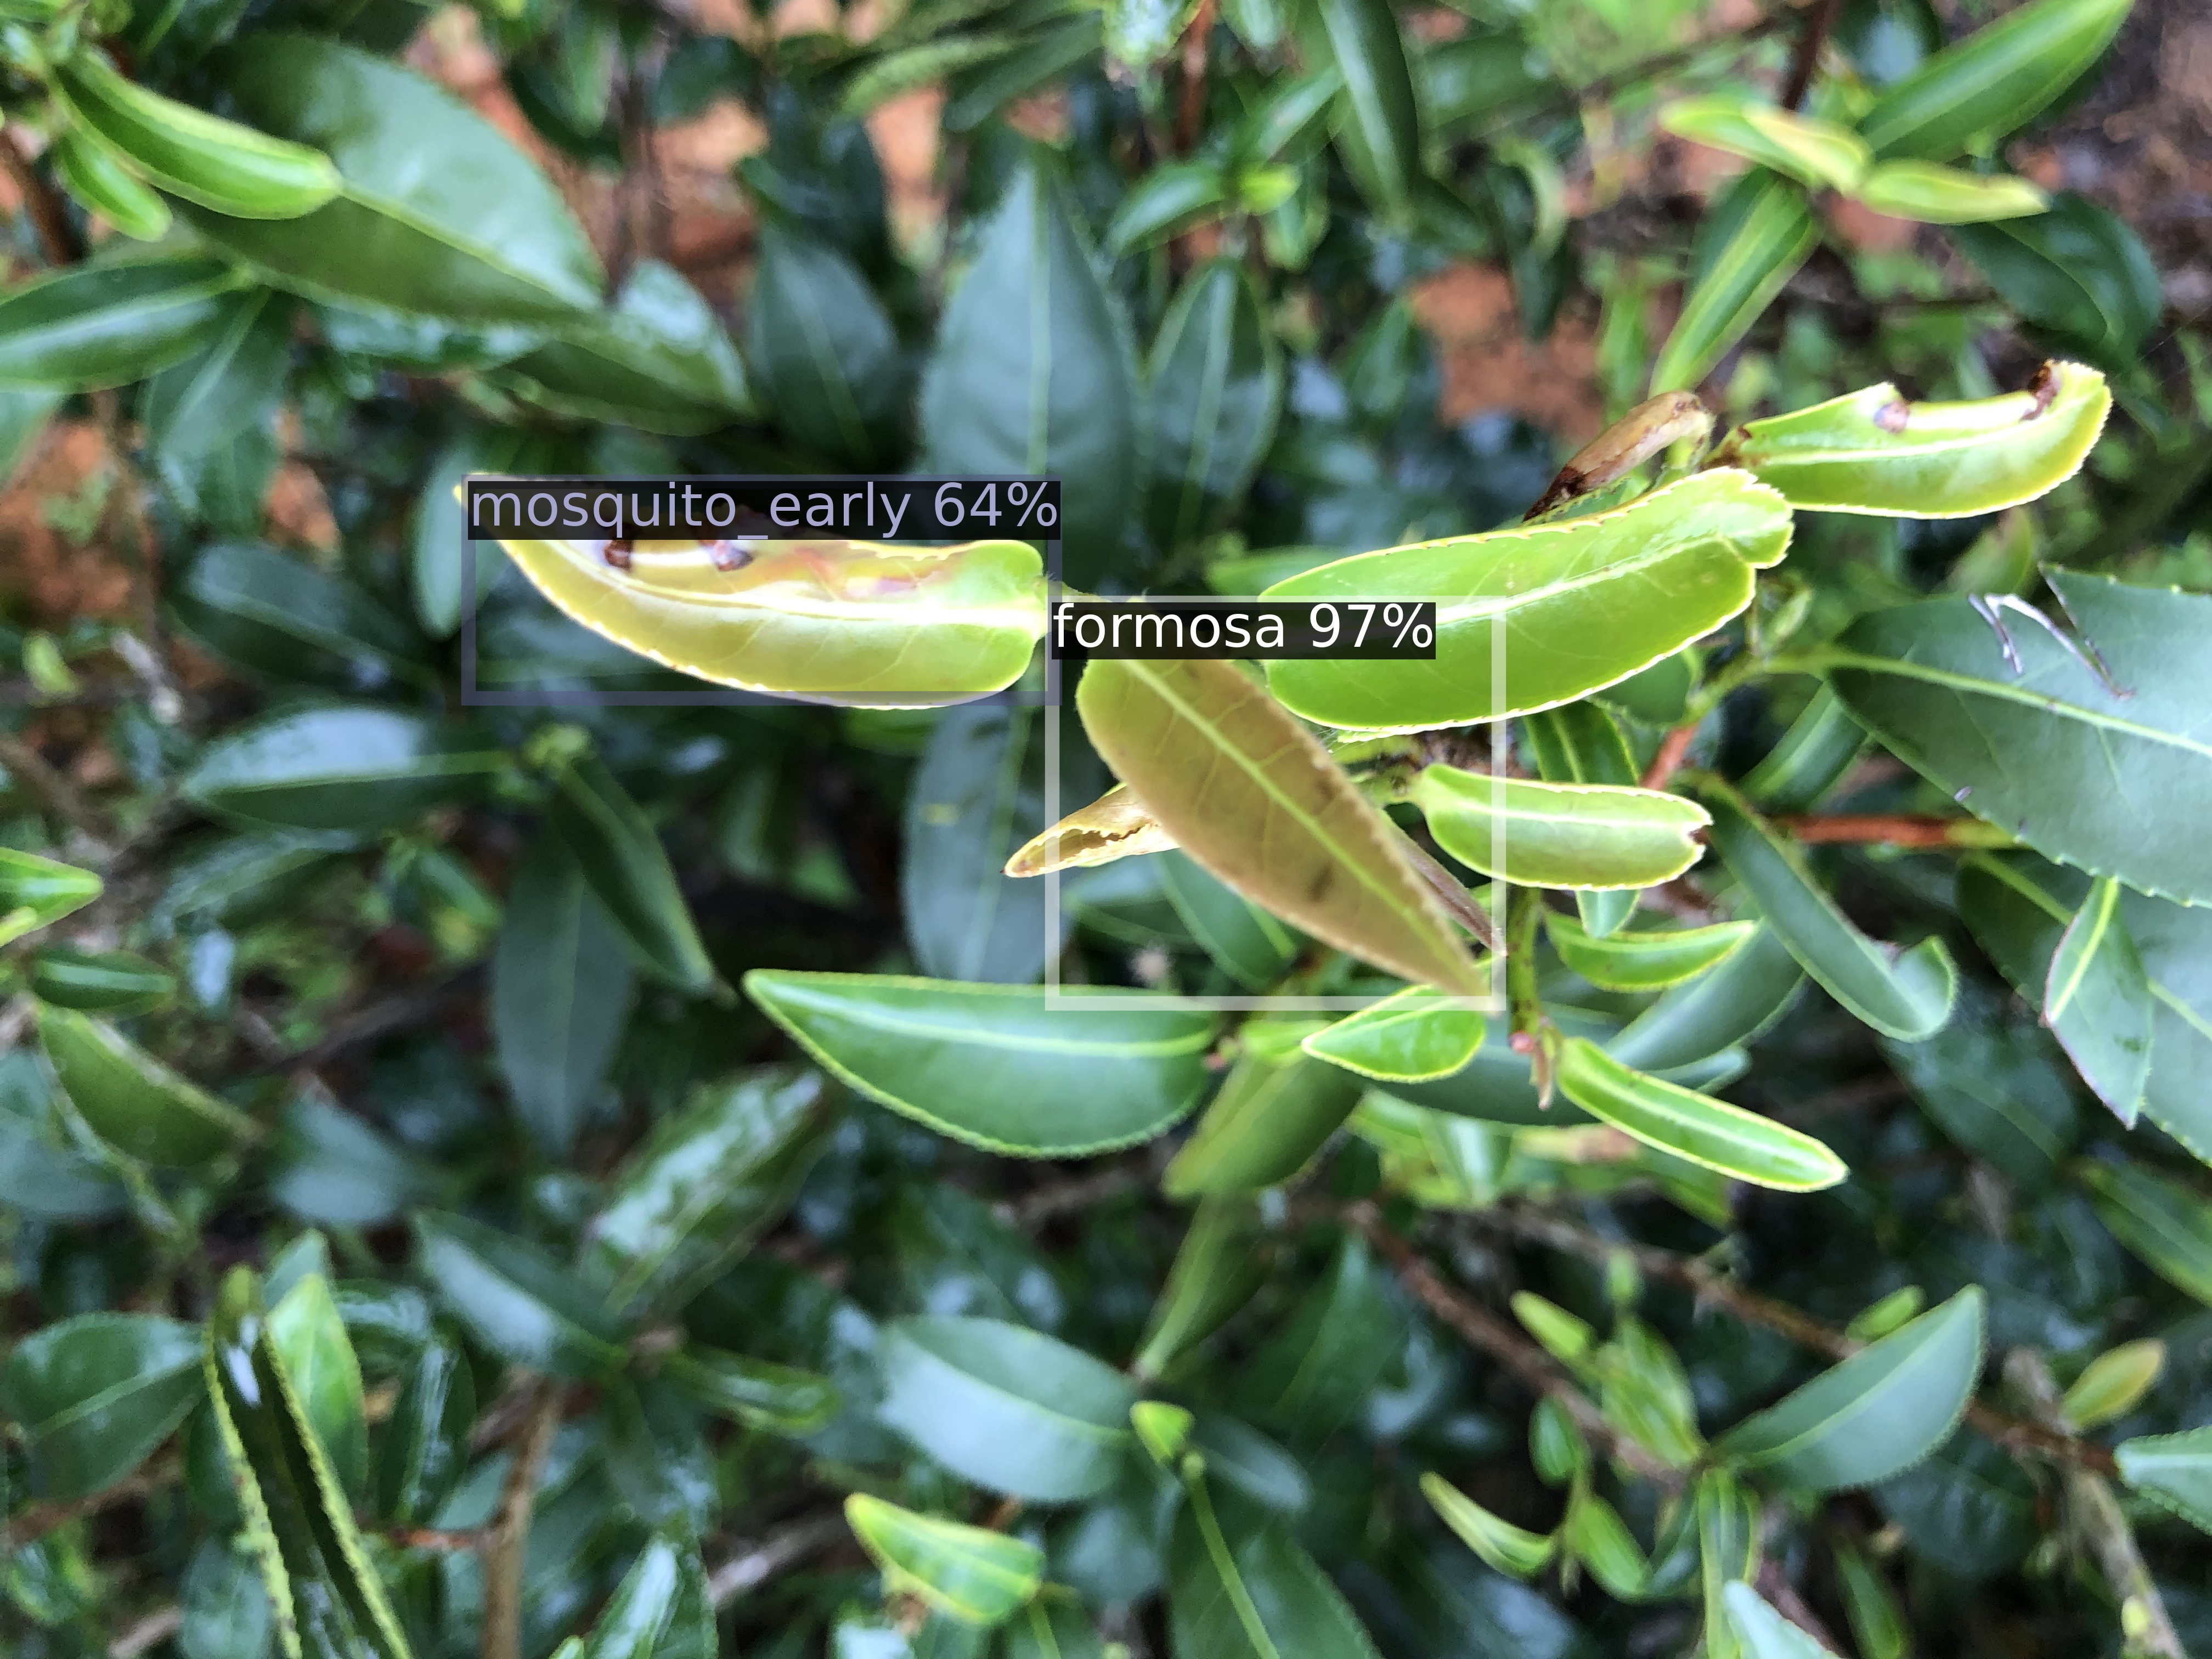formosa: (1052, 603, 1500, 1002)
mosquito_early: (469, 481, 1055, 699)
